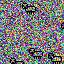sheep: (22, 2, 36, 14), (48, 52, 62, 64), (29, 48, 44, 59)
